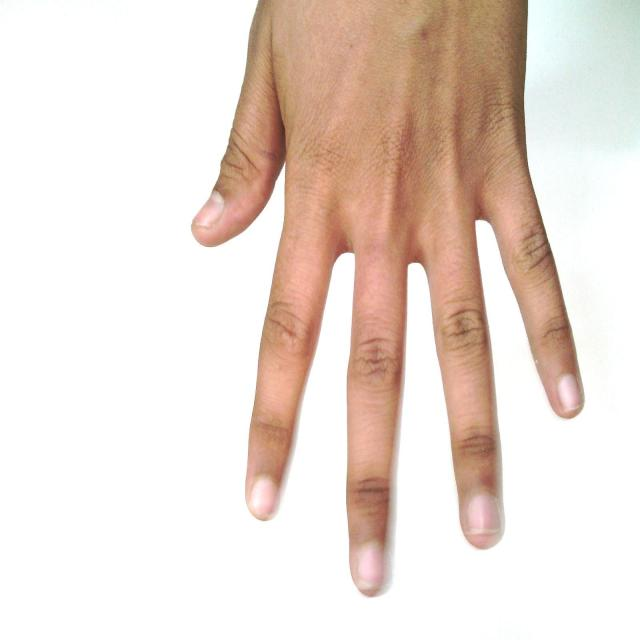others: (188, 1, 584, 595)
